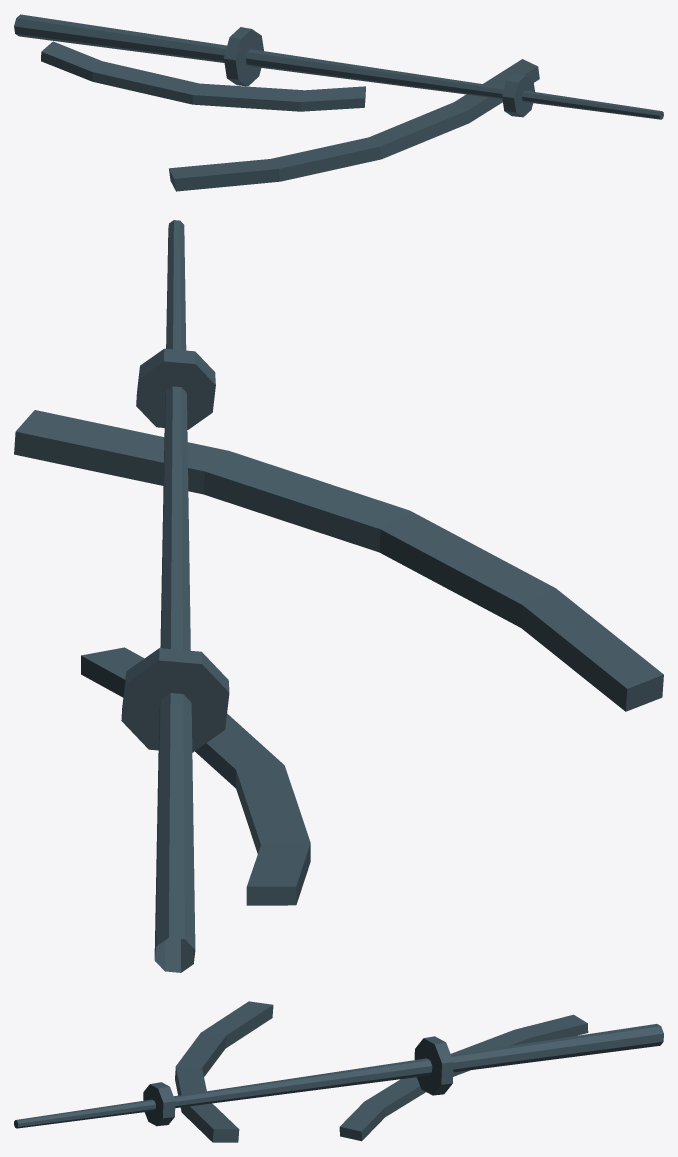
File: Ship_052.glb
3 renders of one model, top to bottom at view 1: azimuth 30°, elevation 25°; view 2: azimuth 150°, elevation 25°; view 3: azimuth 270°, elevation 25°, orthographic. The views are drawn at different scales.
Visible parts, largest first — view 1: Ship_052; view 2: Ship_052; view 3: Ship_052.
Part boxes in pixels (x1,y1,x2,y2): Ship_052: [14, 14, 663, 191]; Ship_052: [14, 220, 663, 972]; Ship_052: [14, 1001, 663, 1142].
Size of the model in its own units: 5.14 by 1.08 by 7.74.
Materials: 1 (1 with a texture image).
